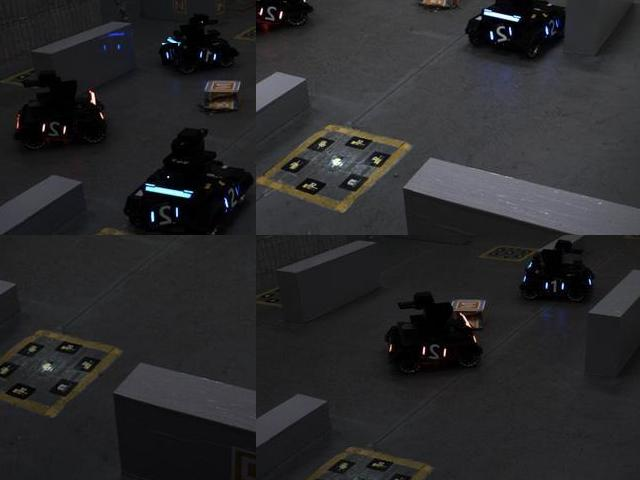armor: (146, 199, 185, 233), (219, 180, 242, 219), (40, 117, 75, 142), (256, 1, 289, 26), (484, 24, 516, 46), (420, 342, 451, 363), (542, 275, 567, 297), (198, 46, 221, 66), (542, 18, 562, 38), (162, 44, 179, 67)
